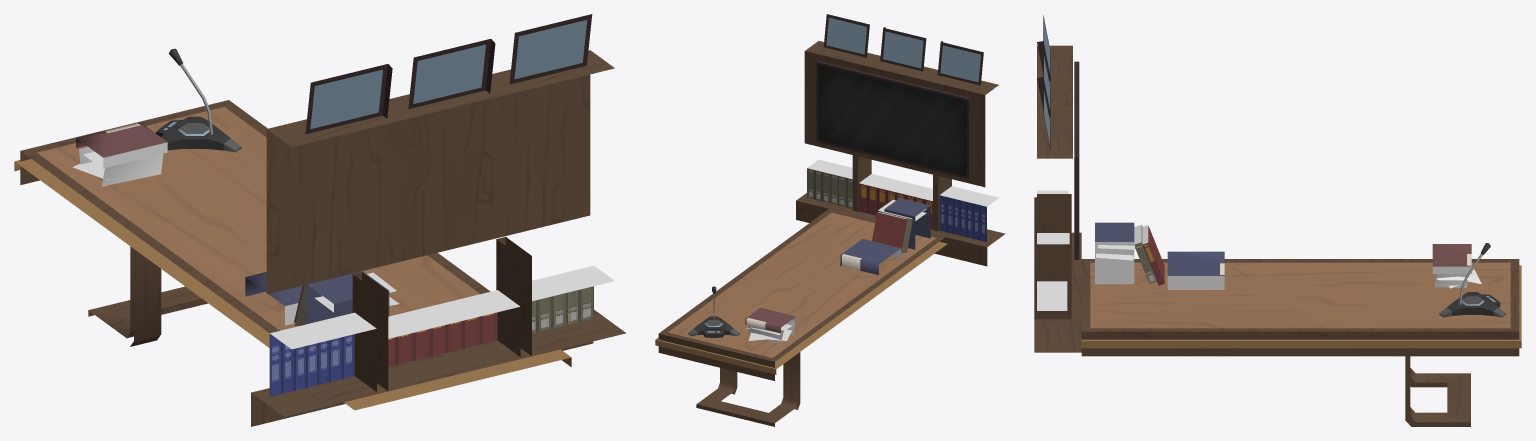
The model's file is interior_F_002.fbx.
The picture shows the model from 3 angles, left to right: view 1: azimuth 30°, elevation 25°; view 2: azimuth 150°, elevation 25°; view 3: azimuth 270°, elevation 25°; orthographic projection. The views are drawn at different scales.
Visible parts, largest first — view 1: interior_F_002; view 2: interior_F_002; view 3: interior_F_002.
Part boxes in pixels (left/top/right/bottom): interior_F_002: left=14, top=14, right=625, bottom=426; interior_F_002: left=655, top=14, right=1005, bottom=426; interior_F_002: left=1034, top=15, right=1521, bottom=426.
Bounding box in the file's own units: 168 × 221 × 289.
